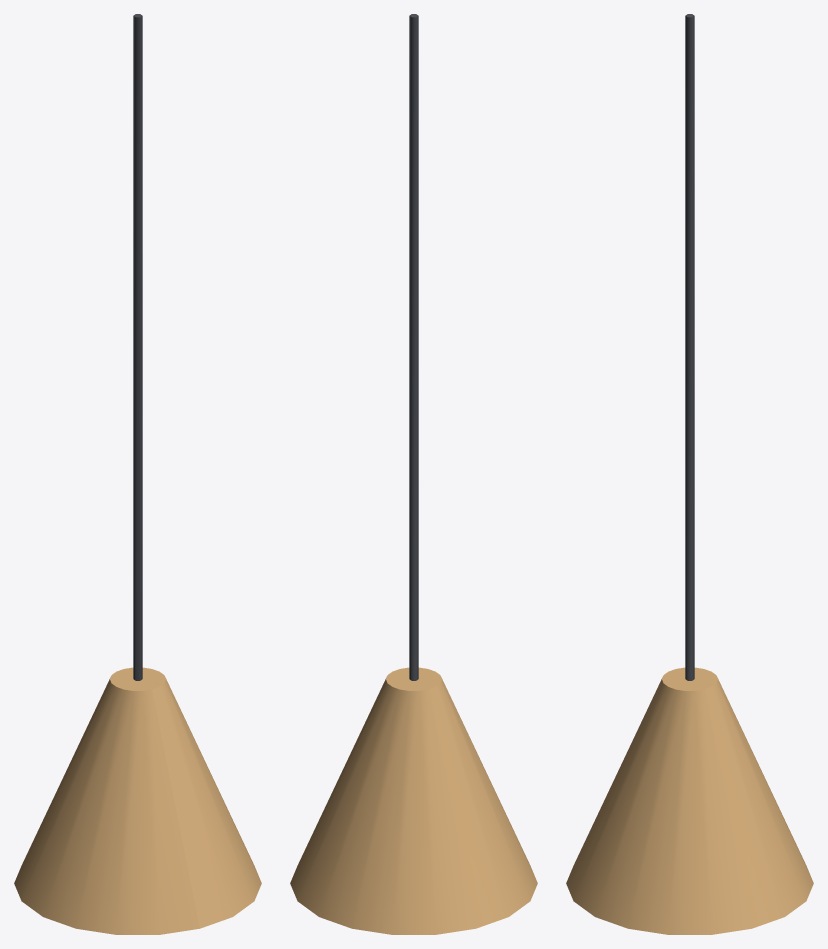
The model's file is counter_lamp.glb.
3 renders of one model, left to right at view 1: azimuth 30°, elevation 25°; view 2: azimuth 150°, elevation 25°; view 3: azimuth 270°, elevation 25°, orthographic.
Parts seen in each view (by area): view 1: shade, cord; view 2: shade, cord; view 3: shade, cord.
Part boxes in pixels (x1=…): shade: x1=14, y1=667, x2=261, y2=934; cord: x1=133, y1=14, x2=142, y2=680; shade: x1=290, y1=667, x2=537, y2=934; cord: x1=409, y1=14, x2=418, y2=680; shade: x1=566, y1=667, x2=813, y2=934; cord: x1=685, y1=14, x2=694, y2=680.
Bounding box in the file's own units: 0.4333 × 1.75 × 0.44.
